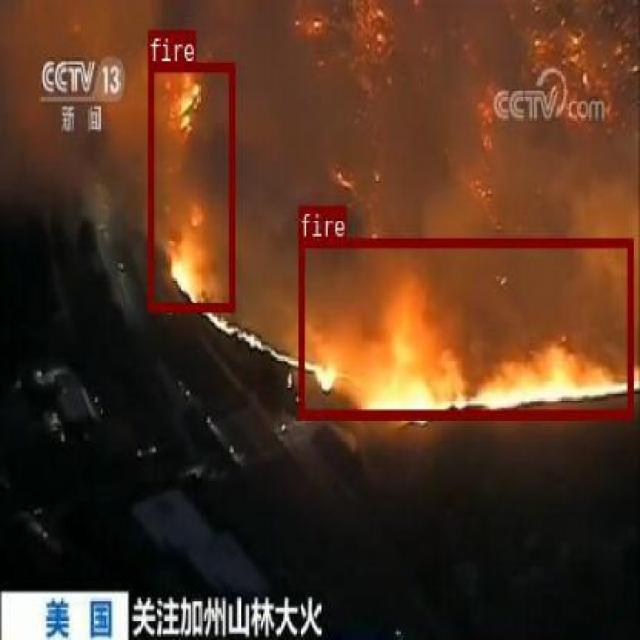fire: (298, 238, 632, 418), (148, 62, 234, 310)
